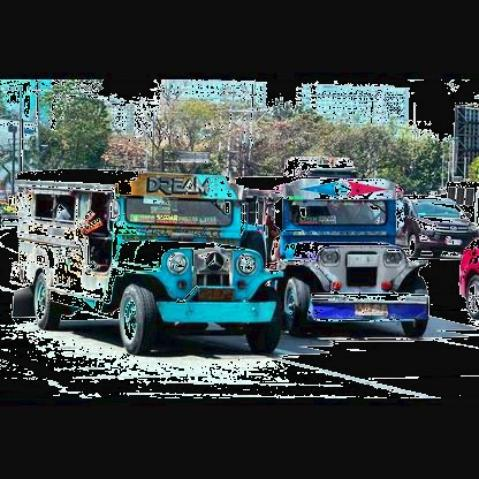jeepney: (12, 152, 272, 368), (237, 148, 424, 349)
